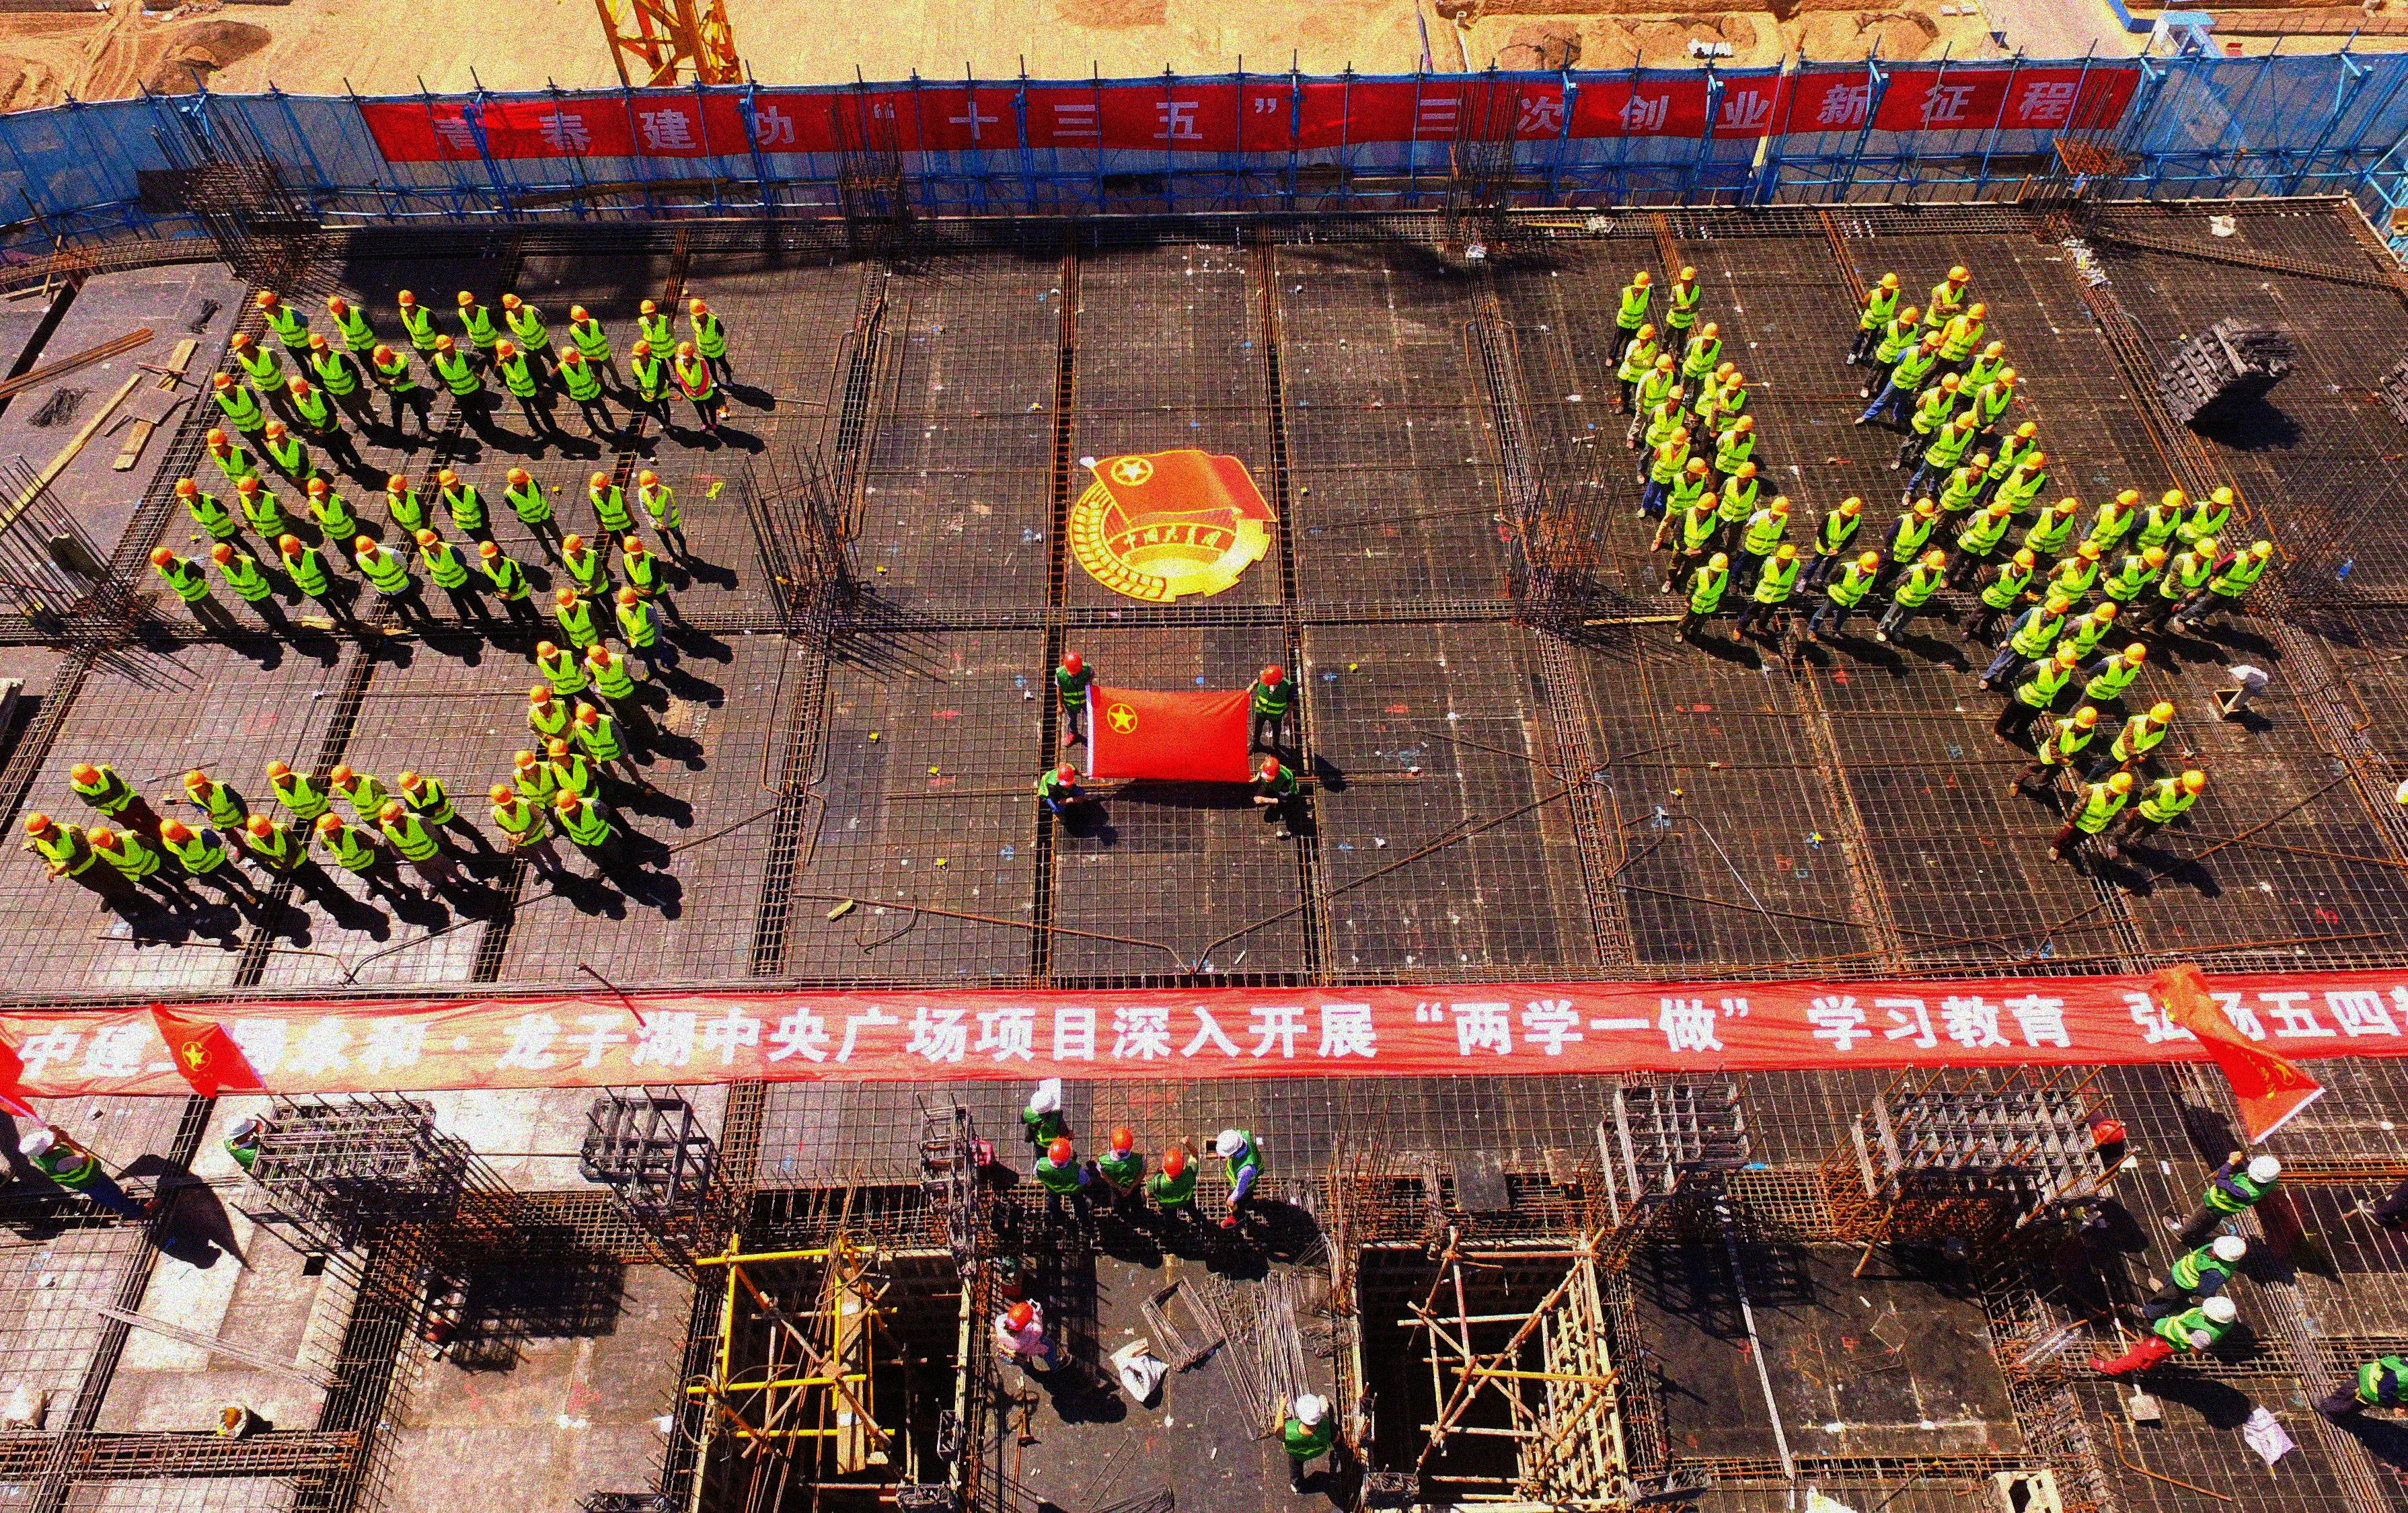helmet: (2201, 1293, 2237, 1330), (2091, 1114, 2129, 1149), (17, 1126, 56, 1161), (1212, 1128, 1247, 1164), (2246, 1154, 2284, 1187), (23, 812, 58, 845), (2211, 1234, 2248, 1265), (1292, 1393, 1322, 1429), (221, 1114, 260, 1142), (1004, 1300, 1036, 1333), (2176, 769, 2207, 798), (1160, 1147, 1186, 1182), (1027, 1089, 1057, 1119), (70, 760, 101, 788), (1111, 1124, 1135, 1159), (378, 800, 406, 830), (159, 816, 188, 844), (2148, 701, 2174, 732), (1731, 460, 1758, 492), (1048, 1138, 1074, 1170), (513, 750, 541, 777), (488, 783, 516, 811), (316, 812, 345, 838), (2108, 770, 2134, 800), (85, 821, 112, 851), (554, 790, 581, 818), (330, 765, 356, 793), (2044, 593, 2070, 621), (2075, 540, 2101, 568), (1984, 497, 2010, 525), (180, 767, 206, 795), (546, 737, 570, 767), (2075, 704, 2099, 734), (2122, 641, 2146, 671), (228, 333, 256, 357), (2141, 544, 2166, 572), (2012, 547, 2037, 575), (1684, 455, 1709, 483), (1695, 492, 1719, 519), (1062, 650, 1085, 680), (1857, 549, 1880, 579), (1953, 411, 1976, 441), (1876, 270, 1899, 300), (148, 547, 174, 572), (279, 533, 303, 560), (415, 528, 439, 554), (561, 533, 586, 560), (535, 638, 560, 664), (398, 770, 424, 795), (267, 760, 291, 786), (2092, 601, 2117, 628), (2194, 535, 2220, 560), (2211, 485, 2235, 511), (2113, 488, 2139, 512), (2054, 495, 2078, 521), (1946, 265, 1970, 291), (265, 418, 288, 446), (530, 685, 553, 713), (2023, 450, 2045, 478), (1775, 544, 1798, 572), (1913, 497, 1935, 525), (206, 425, 227, 455), (209, 542, 234, 567), (255, 291, 279, 315), (500, 293, 525, 317), (2054, 647, 2078, 671), (2160, 488, 2185, 512), (356, 535, 378, 561), (213, 371, 235, 397), (326, 296, 352, 319), (478, 540, 500, 567), (248, 816, 274, 838), (1733, 415, 1756, 441), (1840, 497, 1862, 523), (624, 535, 645, 563), (1055, 762, 1076, 790), (1709, 551, 1730, 579), (1925, 549, 1946, 577), (568, 302, 589, 329), (1700, 321, 1719, 350), (1996, 364, 2016, 394), (385, 474, 408, 499), (307, 478, 330, 502), (237, 476, 260, 500), (176, 478, 199, 502), (507, 467, 530, 492), (2249, 540, 2274, 563), (309, 333, 330, 359), (436, 333, 457, 359), (398, 288, 418, 314), (617, 586, 638, 612), (638, 469, 659, 495), (1259, 756, 1280, 783), (1970, 451, 1991, 478), (1669, 425, 1690, 451), (1714, 361, 1735, 387), (1770, 497, 1791, 523), (1922, 329, 1942, 356), (1899, 307, 1920, 333), (631, 338, 652, 364), (1655, 352, 1674, 380), (1941, 371, 1960, 399), (554, 589, 577, 612), (589, 472, 612, 495), (1259, 664, 1282, 687), (288, 373, 309, 397), (457, 291, 478, 315), (495, 338, 516, 363), (2016, 420, 2037, 444), (560, 343, 581, 368), (638, 298, 659, 322), (1967, 302, 1986, 328), (373, 343, 394, 366), (588, 645, 610, 666), (575, 702, 598, 723), (439, 469, 459, 493), (1677, 267, 1697, 291), (1636, 322, 1655, 347), (1984, 340, 2003, 364), (1632, 270, 1651, 293), (677, 342, 696, 364), (1667, 385, 1684, 410), (1726, 371, 1742, 397), (689, 298, 706, 321)
